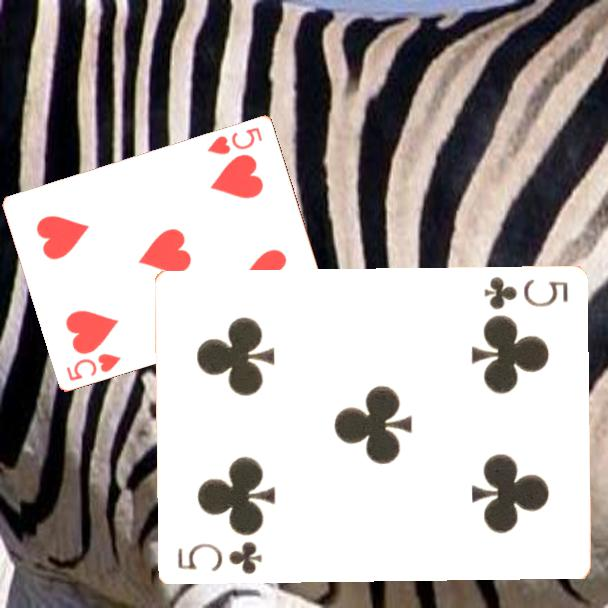c05: (173, 538, 265, 577), (480, 274, 570, 313)
h05: (63, 349, 124, 384), (204, 123, 265, 157)
